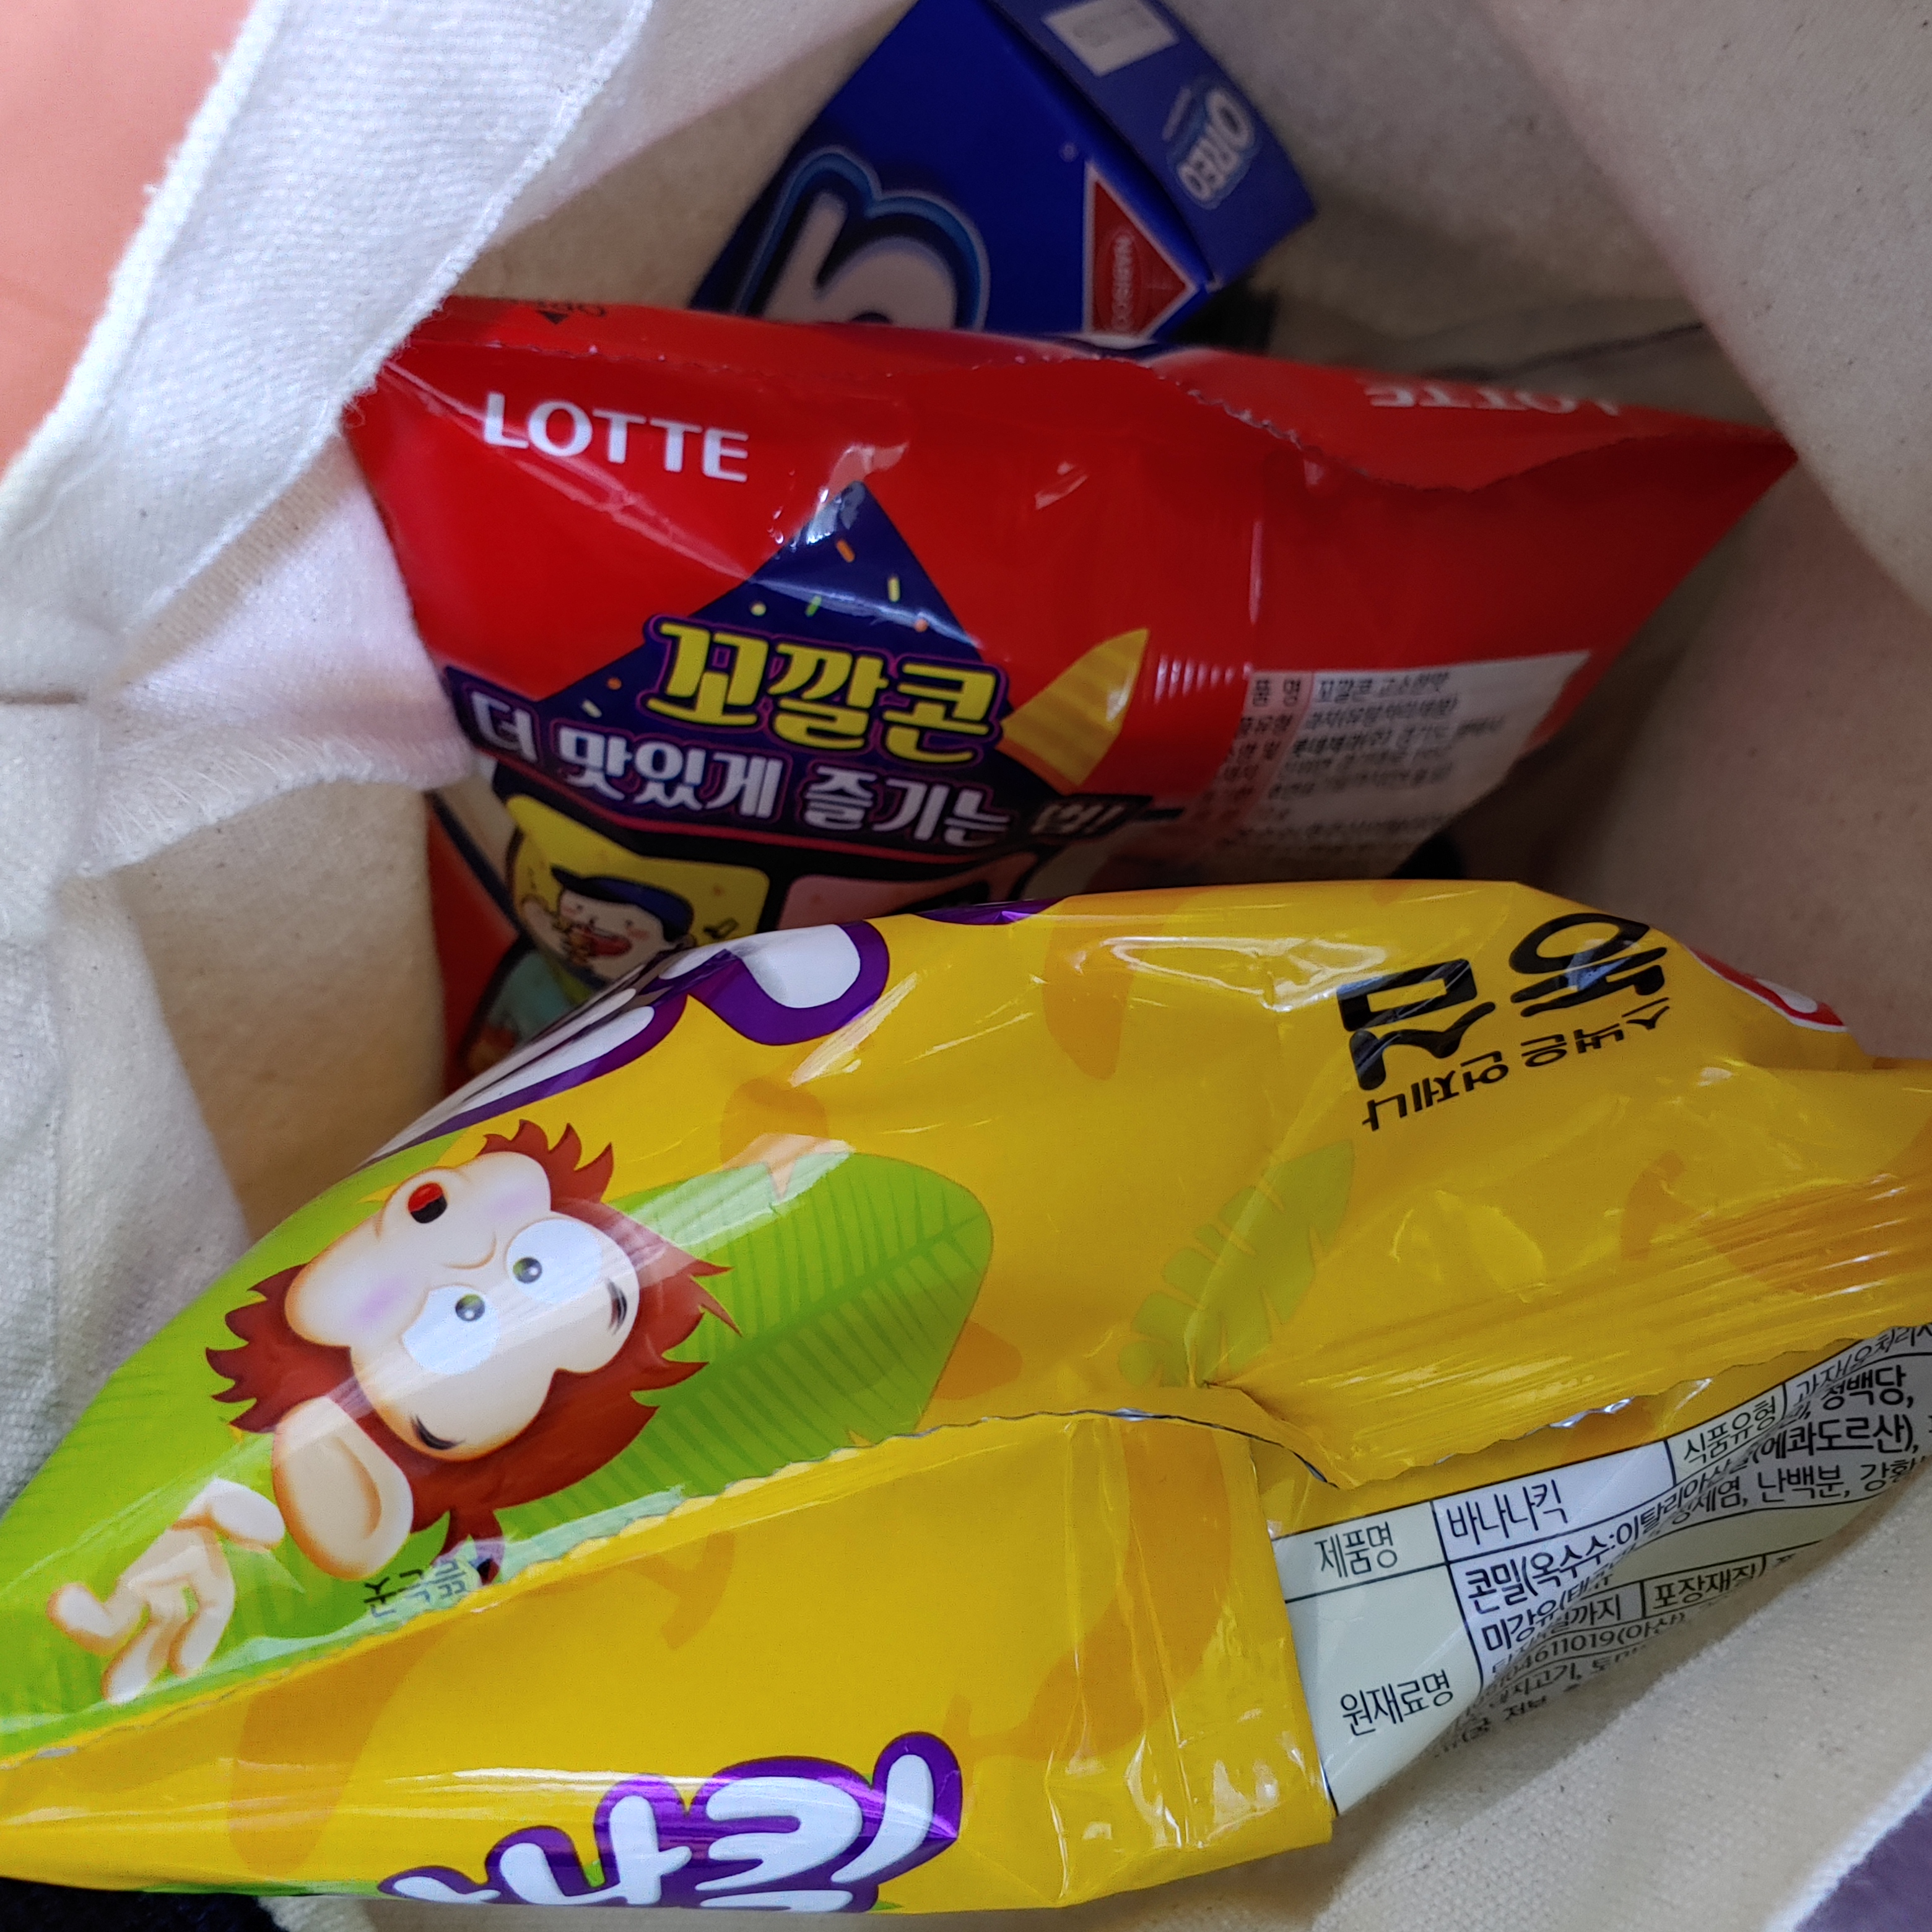banana: (9, 851, 1932, 1925)
ggoggalcon: (294, 225, 1799, 1086)
oreo: (720, 0, 1385, 439)
